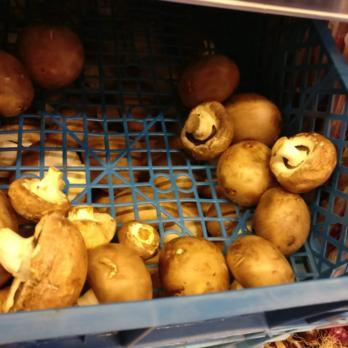Mushroom: (179, 44, 342, 272), (0, 216, 303, 281), (1, 12, 90, 116)
